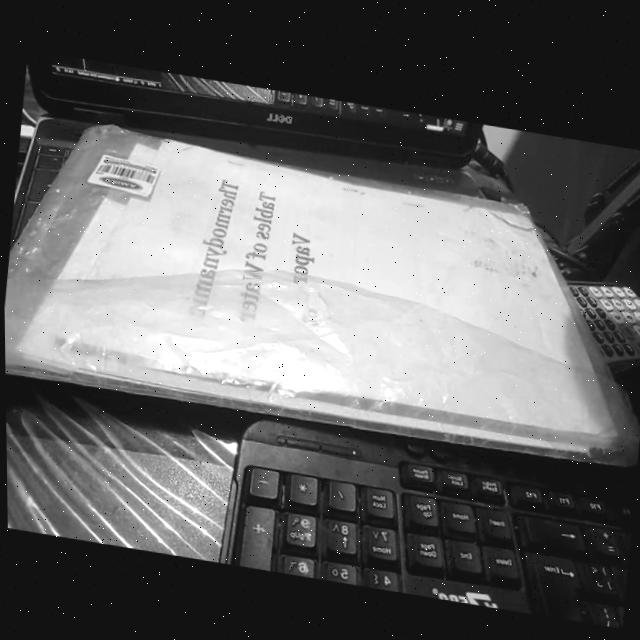document: (50, 141, 610, 433)
